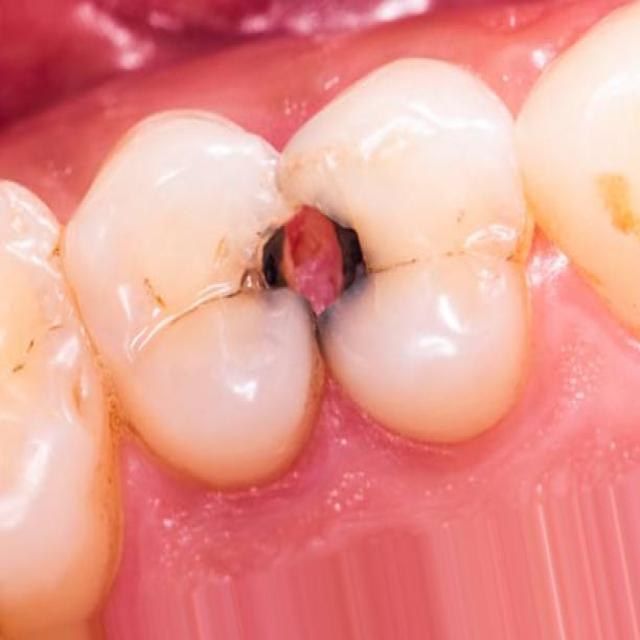caries: (235, 160, 386, 362)
